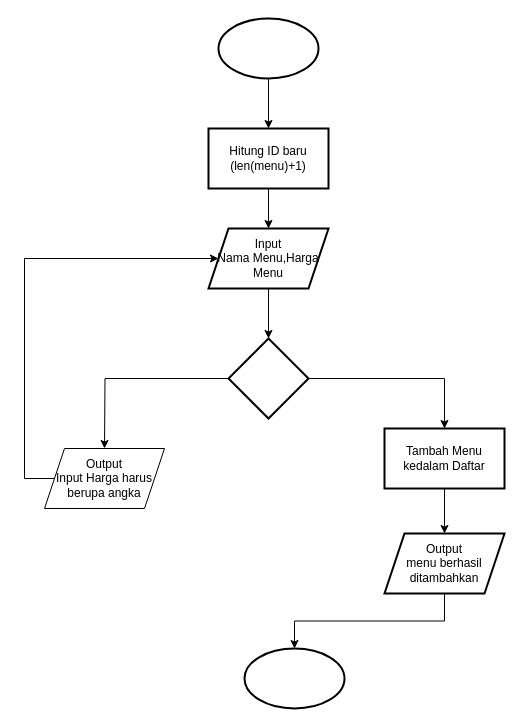
The diagram is 523 pixels wide and 726 high, and some of its shapes have lost their labels. The shapes that lost their labels are listed below. From the top down, each one's centre as x and y in pixels, then its label:
At point 268,48: "Tambah Menu".
At point 268,378: "Apakah Harga Berupa Angka?".
At point 294,678: "End".
